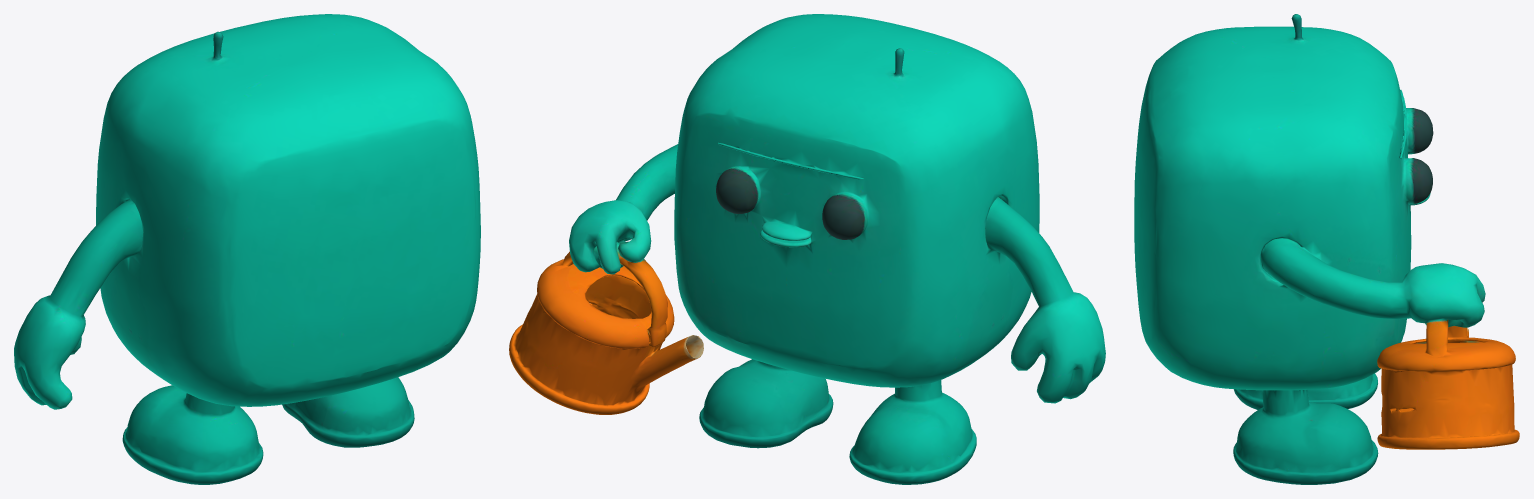
File: 04-transform.glb
3 views of the same model, side by side, from view 1: azimuth 30°, elevation 25°; view 2: azimuth 150°, elevation 25°; view 3: azimuth 270°, elevation 25° (orthographic). The views are drawn at different scales.
Visible parts, largest first — view 1: tripo_node_d971d1f7-b1b4-42b7-8bdd-3a7ecbd1494a; view 2: tripo_node_d971d1f7-b1b4-42b7-8bdd-3a7ecbd1494a; view 3: tripo_node_d971d1f7-b1b4-42b7-8bdd-3a7ecbd1494a.
Part boxes in pixels (x1,y1,x2,y2): tripo_node_d971d1f7-b1b4-42b7-8bdd-3a7ecbd1494a: (14, 14, 480, 484); tripo_node_d971d1f7-b1b4-42b7-8bdd-3a7ecbd1494a: (509, 14, 1105, 484); tripo_node_d971d1f7-b1b4-42b7-8bdd-3a7ecbd1494a: (1134, 14, 1519, 484).
Size of the model in its own units: 1.2 by 0.9334 by 0.8376.
Materials: 1 (1 with a texture image).
